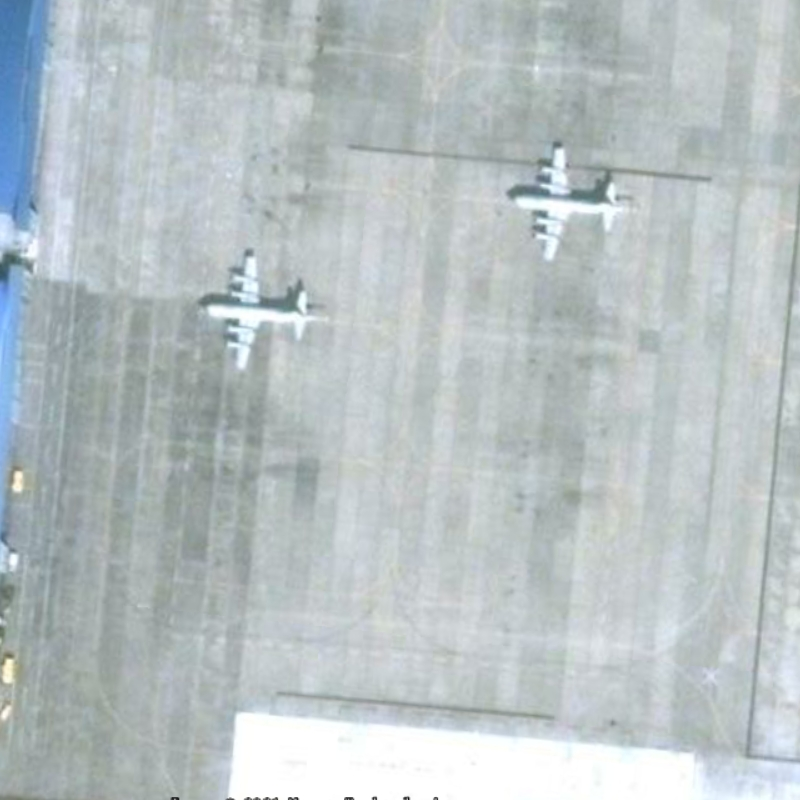A9: (182, 241, 340, 378), (499, 135, 650, 268)
